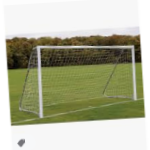goals: (16, 44, 138, 116)
